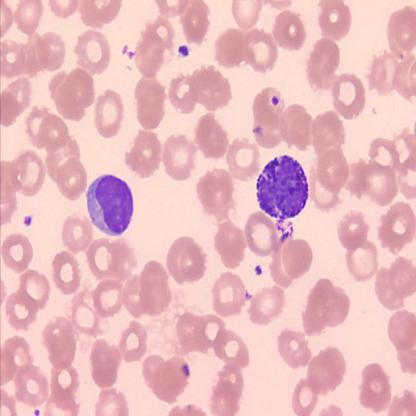Basophil: (255, 153, 312, 223), (83, 169, 136, 240)
